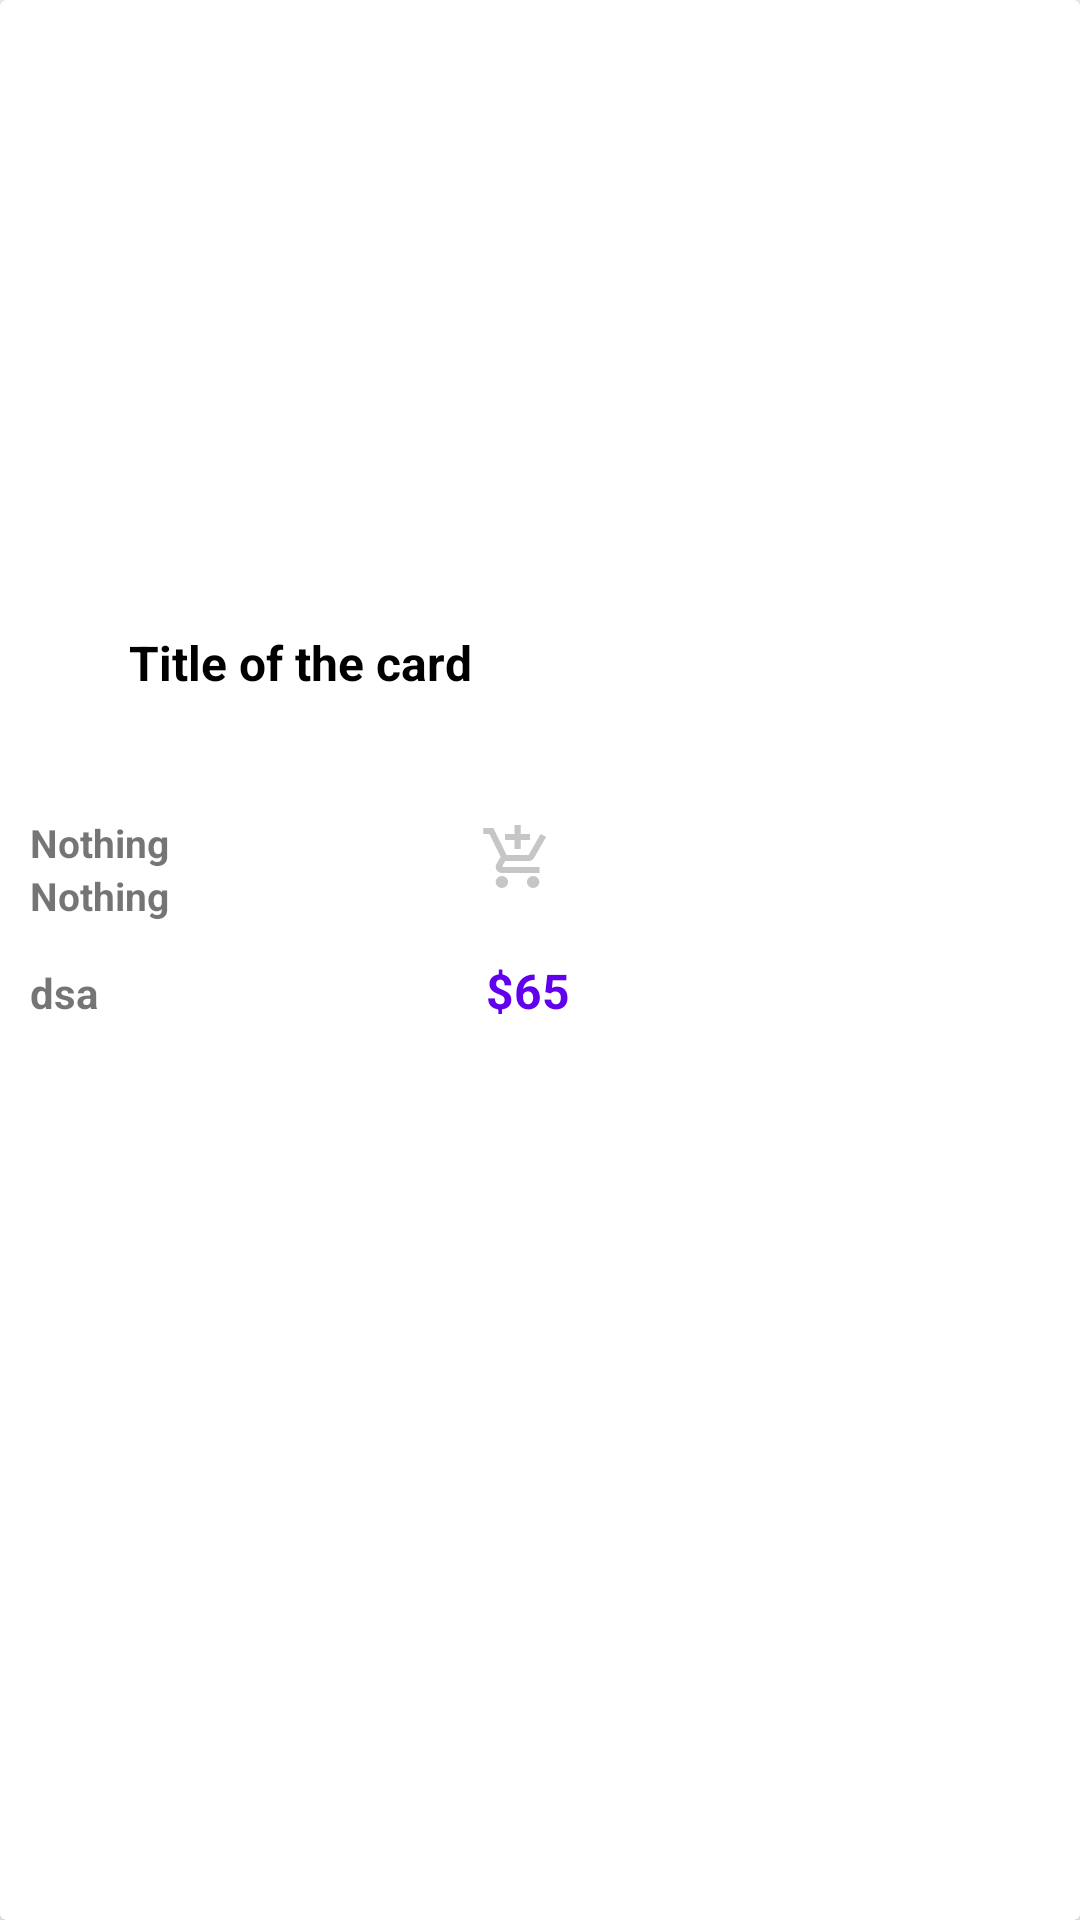

Named icons in this screenshot (1080x1920) and their centers, (x=x, y=y):
cart plus: (x=514, y=856)
